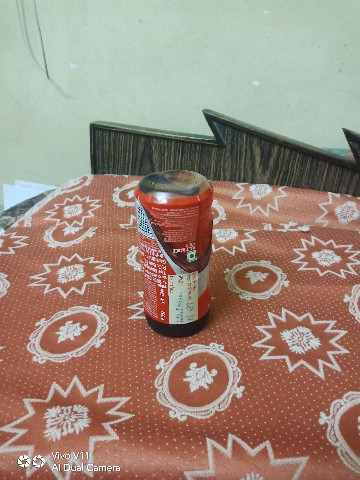boost small: (108, 151, 232, 340)
